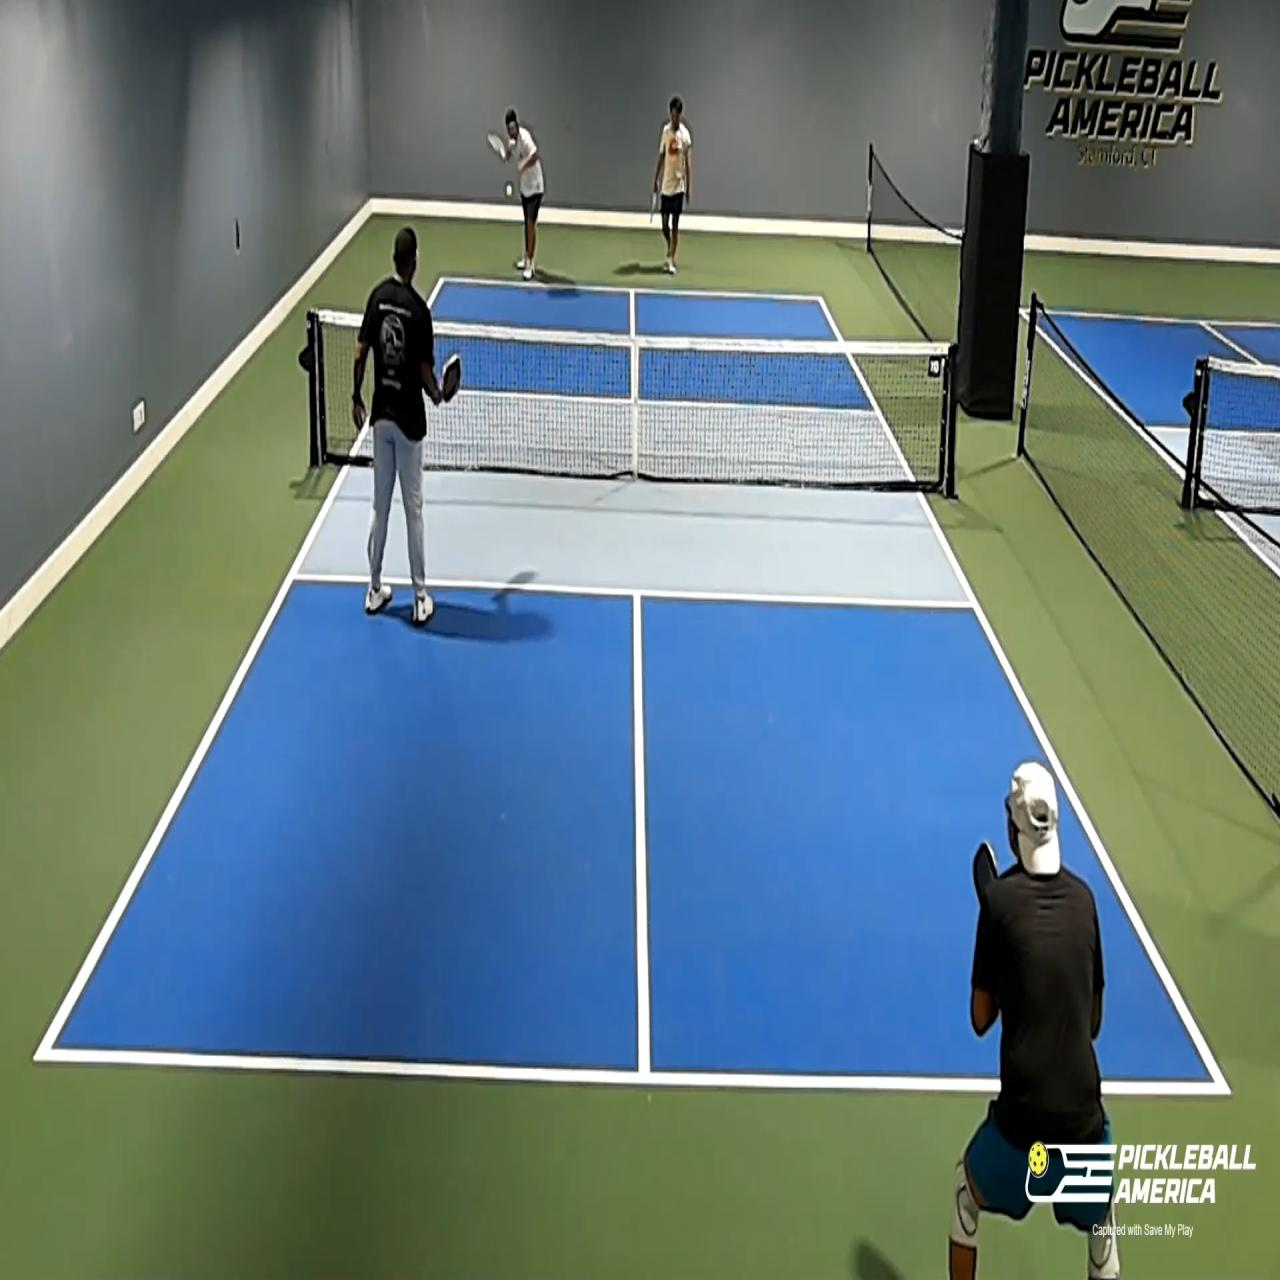Pickleball: (504, 179, 516, 197)
